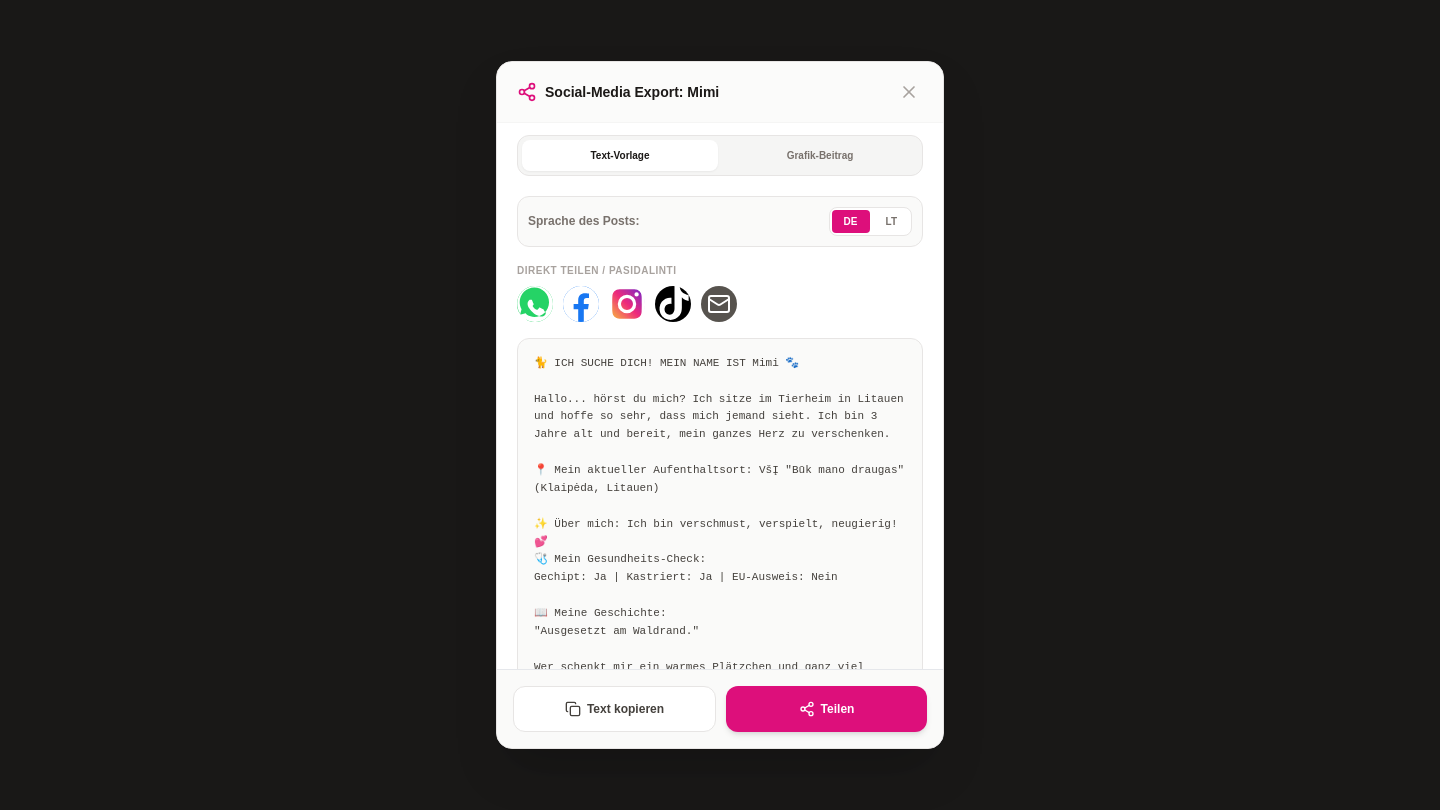
Test: SharePanel Social Exporter Component › Copy Text Button: copies description and shows copied banner
Click the button "Text kopieren": (614, 709) [513,686,716,732]
(page scrolled)
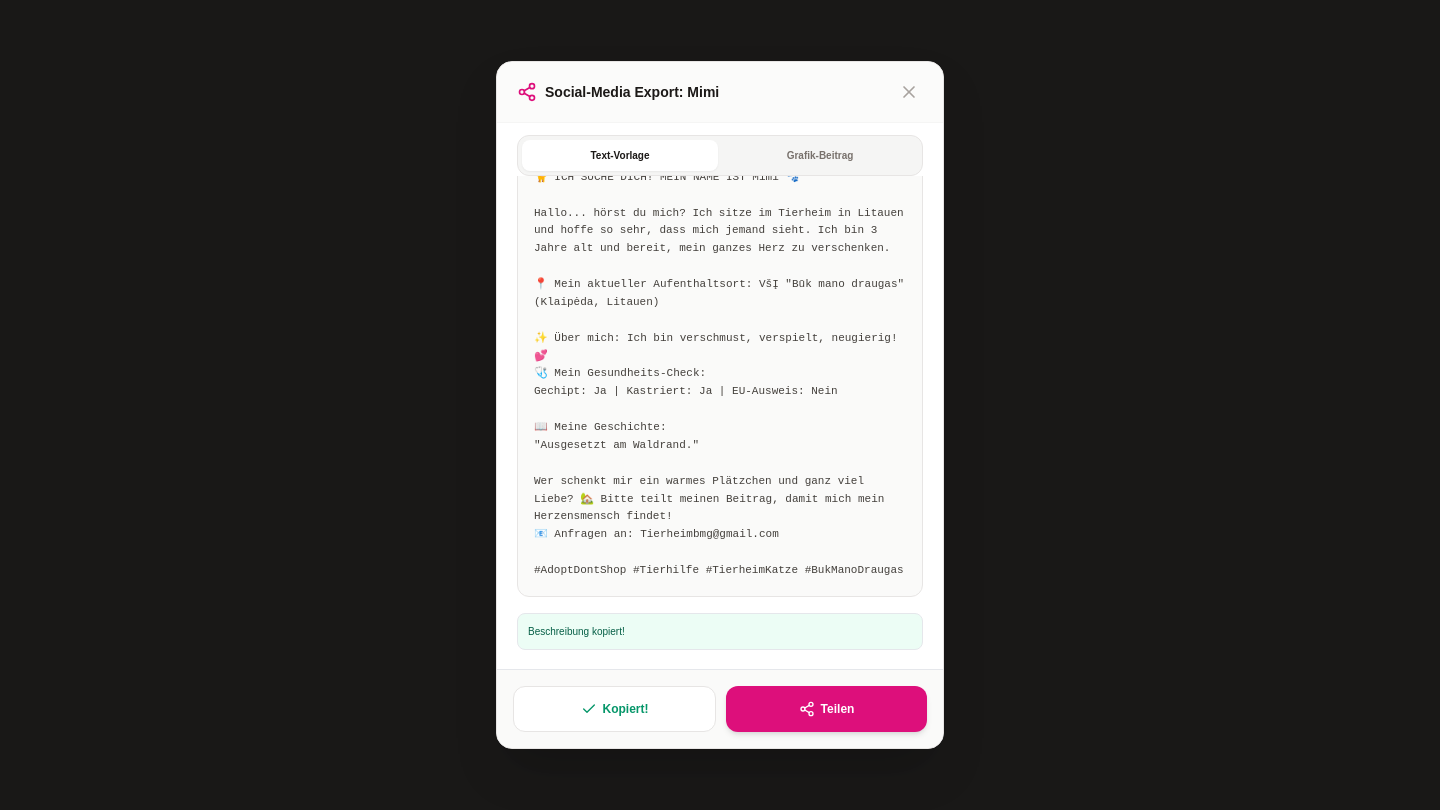
Expected: the text "Beschreibung kopiert!" is shown, [517,613,923,650]
